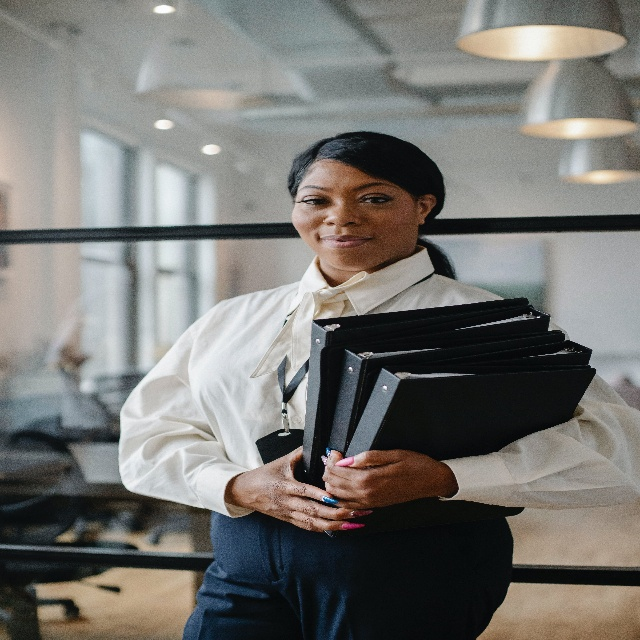Sin_guantes: (239, 444, 372, 534), (321, 443, 439, 511)
